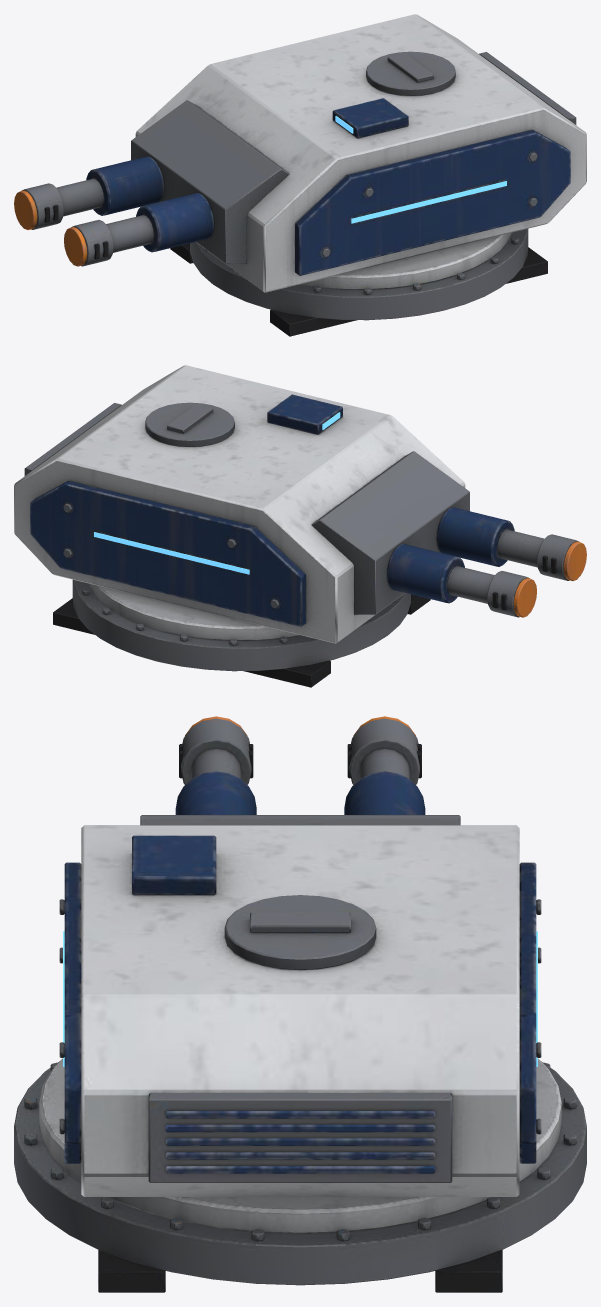
File: 整備庫_29_雙管砲塔.glb
3 views of the same model, one above another, from view 1: azimuth 30°, elevation 25°; view 2: azimuth 150°, elevation 25°; view 3: azimuth 270°, elevation 25° (orthographic). The views are drawn at different scales.
Parts seen in each view (by area): view 1: Turret_Mesh; view 2: Turret_Mesh; view 3: Turret_Mesh.
Boxes of the visible parts, <box> form: Turret_Mesh: <box>14,14,586,336</box>; Turret_Mesh: <box>14,365,586,687</box>; Turret_Mesh: <box>14,716,586,1292</box>.
Size of the model in its own units: 5.62 by 2.03 by 3.4.
2 materials, 1 textured.
